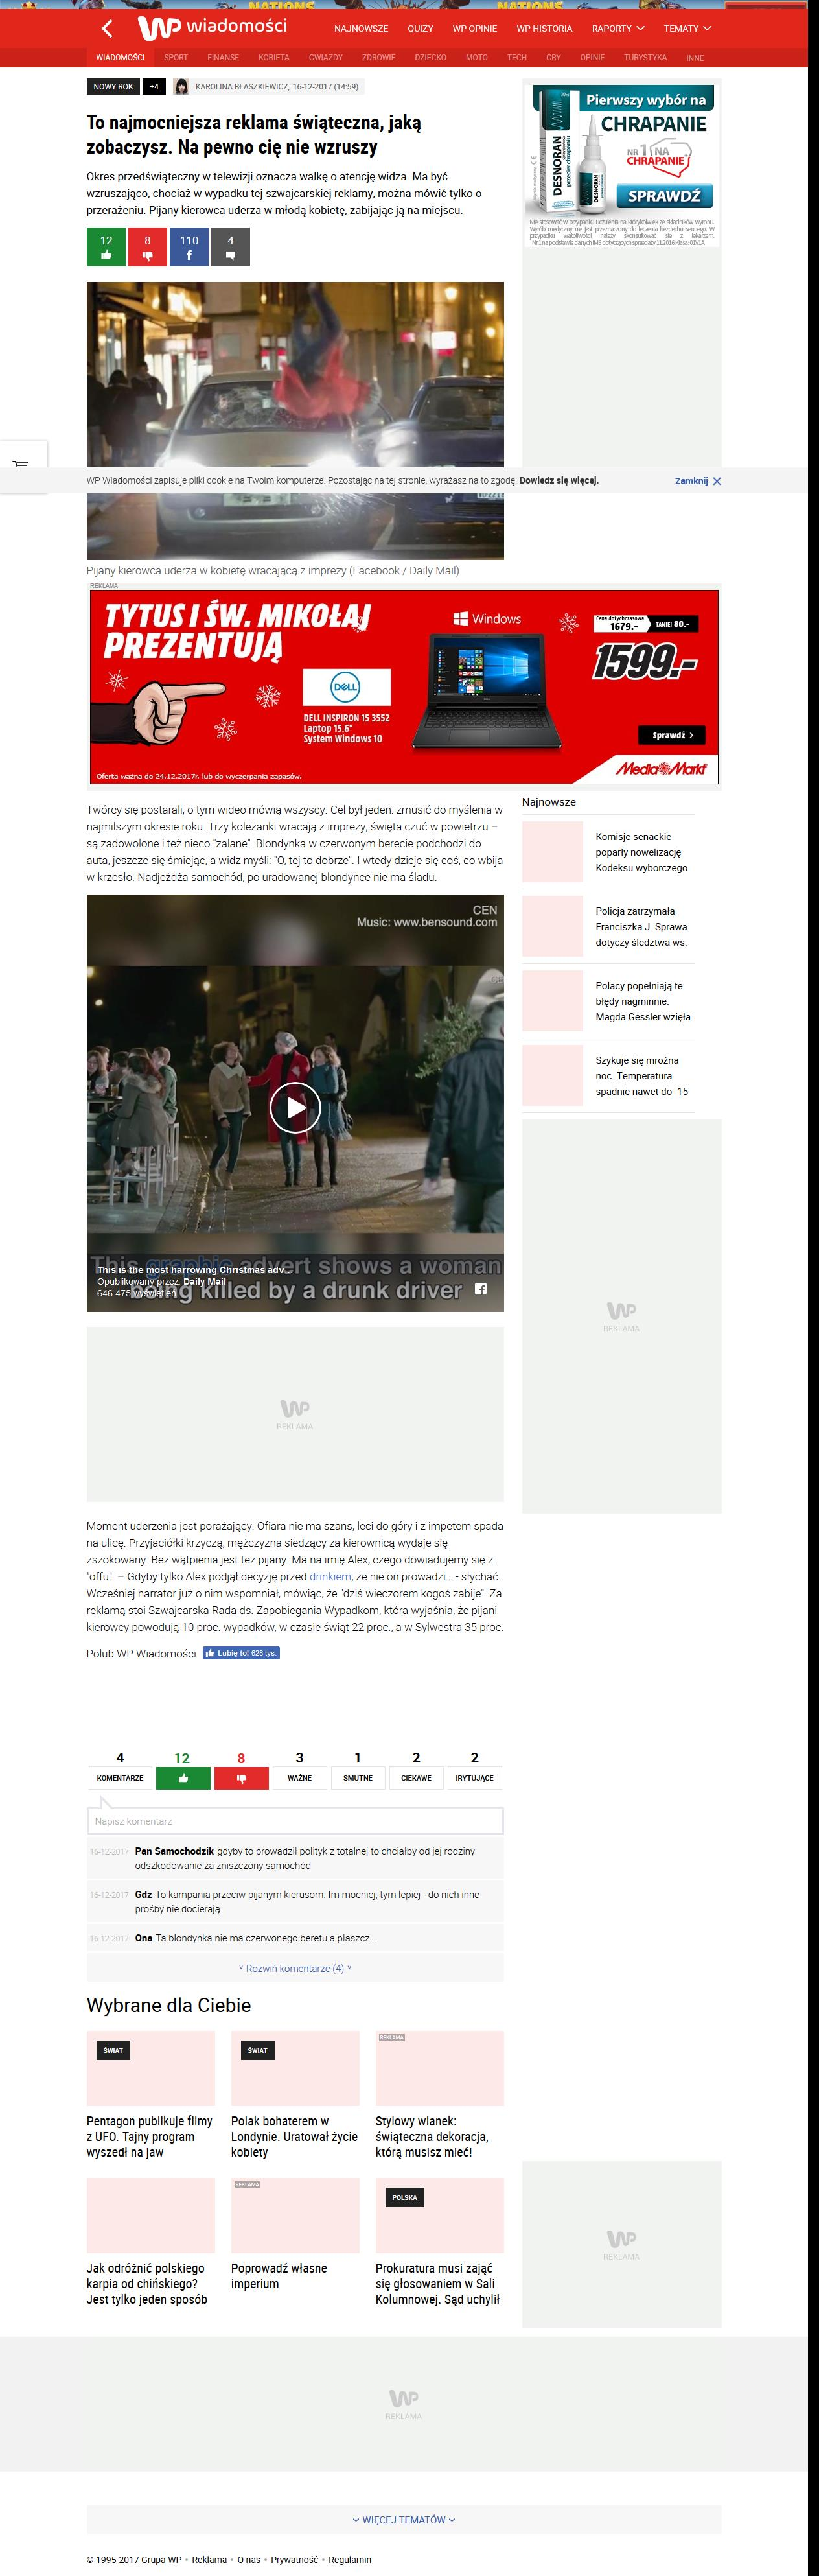title: (85, 112, 422, 158)
